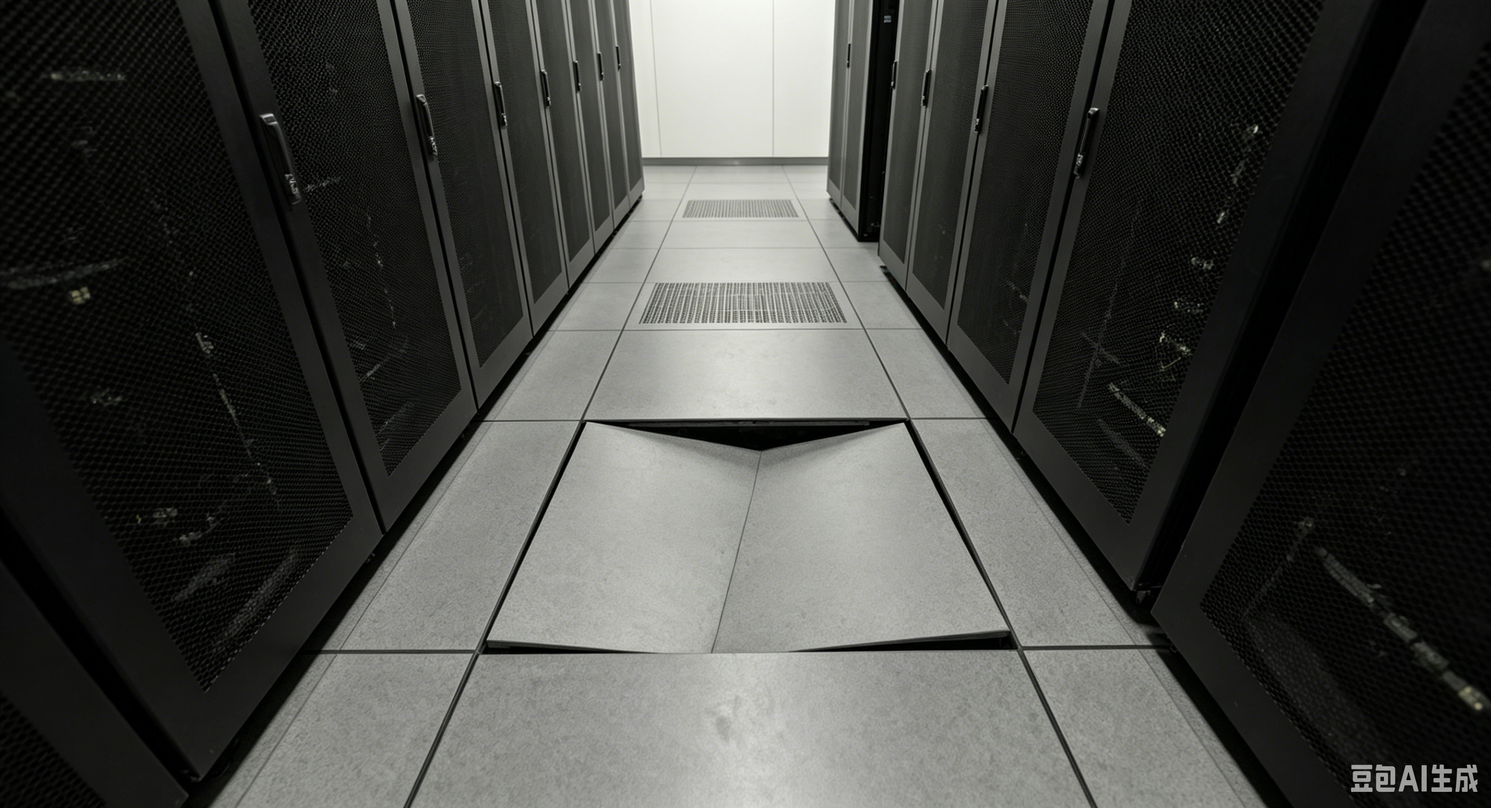floor_defect: (476, 407, 1023, 662)
